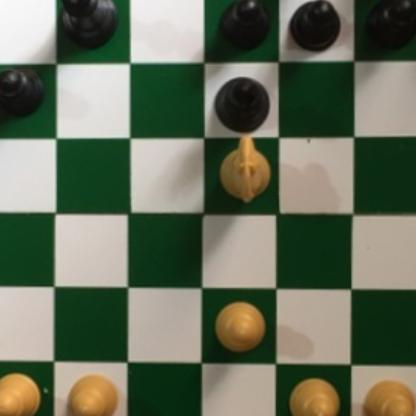black-bishop: (213, 75, 271, 134)
black-king: (53, 0, 116, 51)
black-pawn: (216, 0, 271, 56), (360, 0, 416, 53), (288, 0, 341, 54), (0, 63, 44, 120)
white-knight: (220, 133, 273, 210)
white-pawn: (213, 297, 267, 356), (63, 371, 122, 416), (359, 374, 416, 416), (283, 377, 342, 416), (0, 369, 44, 416)
